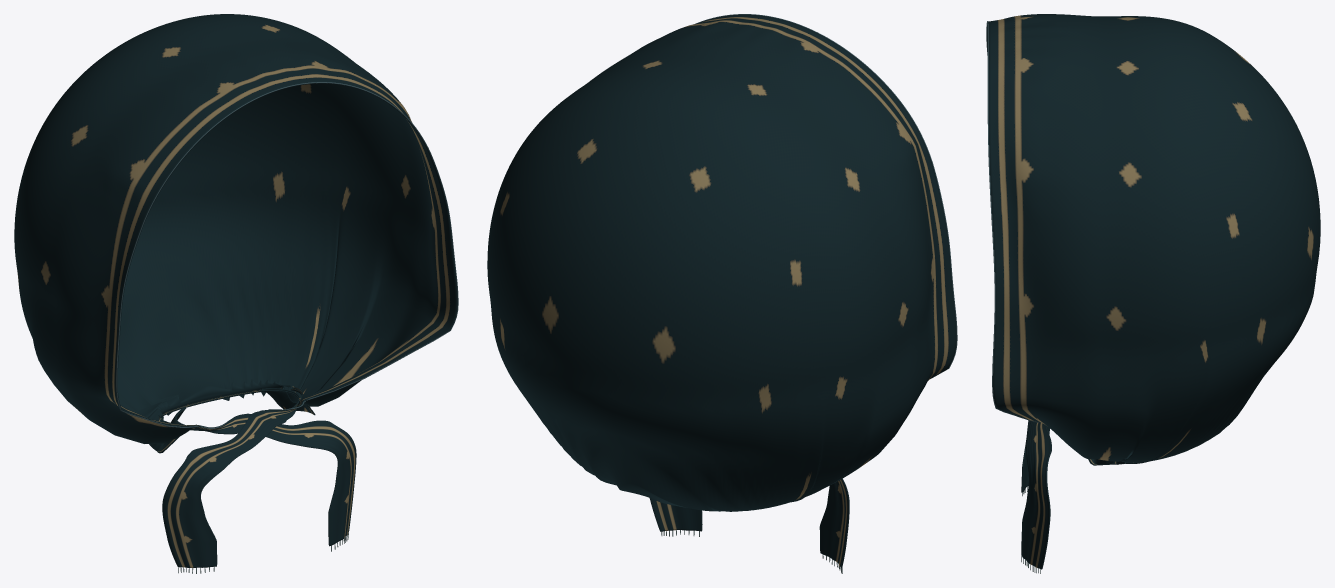
Rendered from Masculine-Masculine-taper-jersey-pashmina250-headgear-1f84a86f.glb.
3 views of the same model, side by side, from view 1: azimuth 30°, elevation 25°; view 2: azimuth 150°, elevation 25°; view 3: azimuth 270°, elevation 25° (orthographic). The views are drawn at different scales.
Visible parts, largest first — view 1: 226 headgear / Headwear / continuous woven pashmina239, 226 headgear / Headwear / face edge239; view 2: 226 headgear / Headwear / continuous woven pashmina239, 226 headgear / Headwear / face edge239; view 3: 226 headgear / Headwear / continuous woven pashmina239, 226 headgear / Headwear / face edge239.
Part boxes in pixels (x1=…): 226 headgear / Headwear / continuous woven pashmina239: x1=14, y1=14, x2=457, y2=567; 226 headgear / Headwear / face edge239: x1=116, y1=82, x2=458, y2=428; 226 headgear / Headwear / continuous woven pashmina239: x1=487, y1=14, x2=956, y2=567; 226 headgear / Headwear / face edge239: x1=696, y1=14, x2=957, y2=378; 226 headgear / Headwear / continuous woven pashmina239: x1=987, y1=14, x2=1320, y2=569; 226 headgear / Headwear / face edge239: x1=986, y1=21, x2=1041, y2=422.
Bounding box in the file's own units: 1.07 × 1.4 × 0.8512.
Materials: 3 (1 with a texture image).
